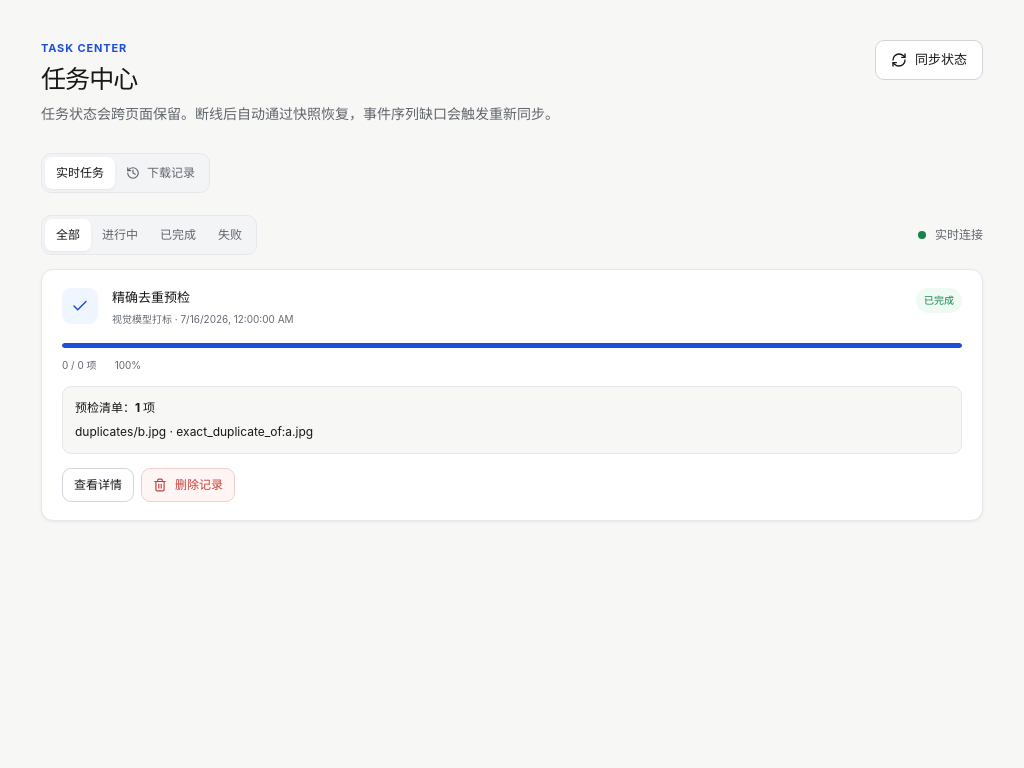
Test case: TasksView destructive preflight › shows generated tags and write status for a visual tagging item
The width and height of the screenshot is (1024, 768).
Click the button "查看详情": (98, 485) [62,468,134,502]
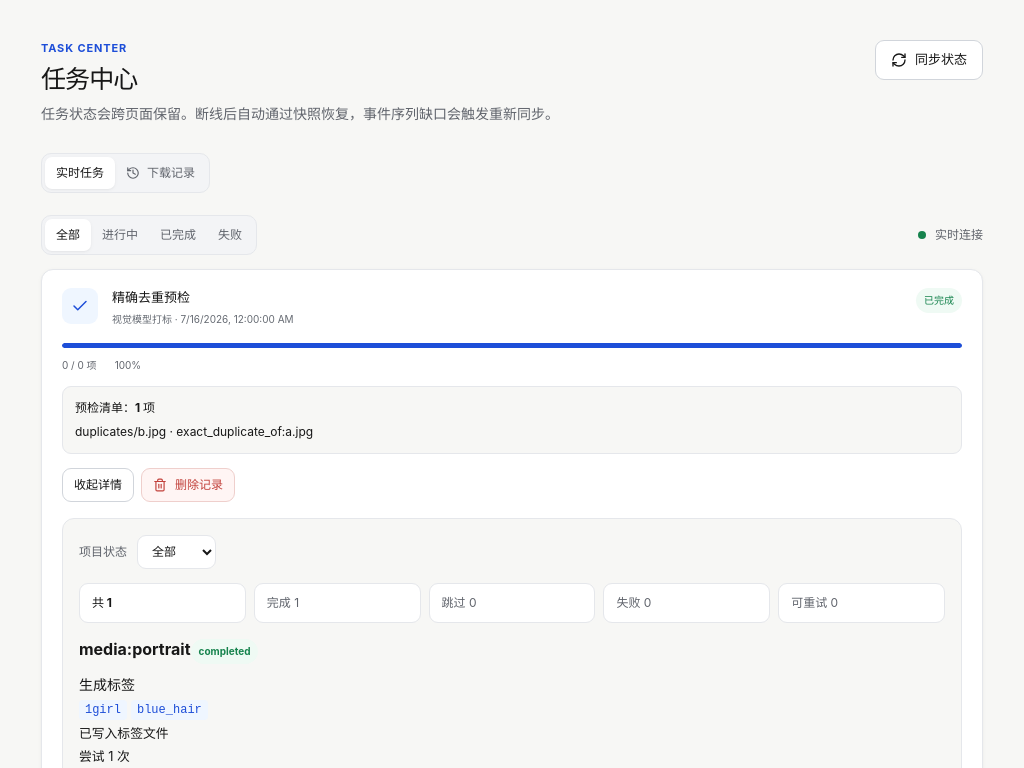
Result: the text "生成标签" is shown at [79,676,135,693]
Result: the text "1girl" is shown at [79,700,127,720]
Result: the text "blue_hair" is shown at [131,700,208,720]
